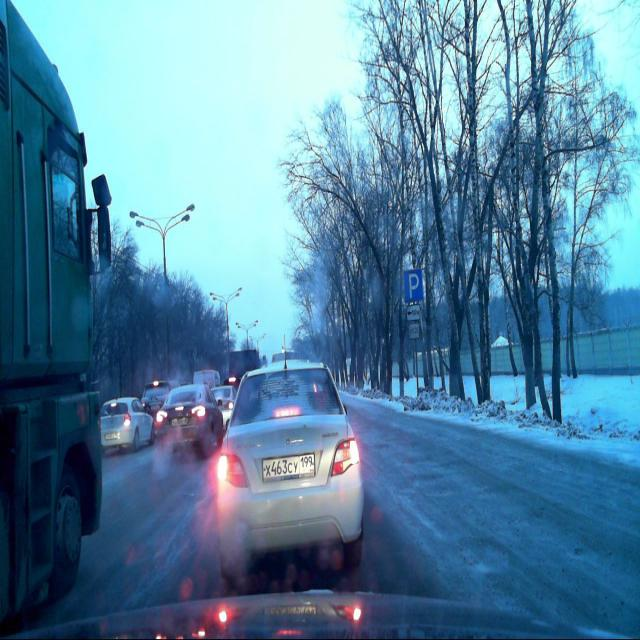road sign: (404, 268, 423, 300), (406, 304, 420, 320)
